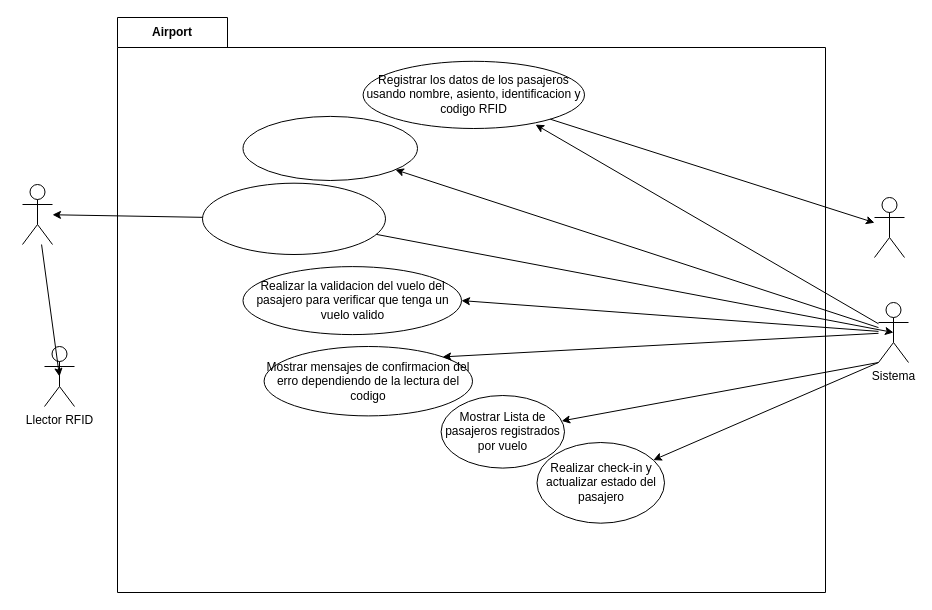
This 932x610 diagram has some shape labels left out. The box of each missing label's shape, as (x1, y1, x2, y2) in pixels:
Arduino: (22, 184, 52, 244)
Leer codigo RFID usando arduino obteninedo y enviando el UID al programa en Java: (202, 182, 386, 254)
Pasajero: (874, 196, 904, 258)
Registrar datos de vuelos, registrar y gestionar reservaciones: (242, 115, 418, 180)
